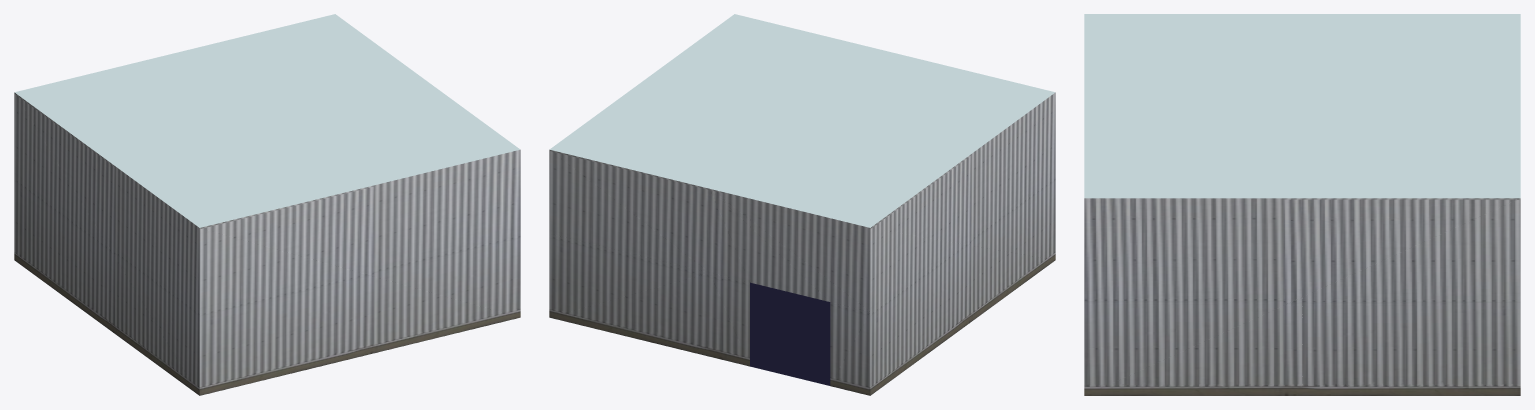
Rendered from Room1_backup.glb.
3 views of the same model, side by side, from view 1: azimuth 30°, elevation 25°; view 2: azimuth 150°, elevation 25°; view 3: azimuth 270°, elevation 25° (orthographic). The views are drawn at different scales.
Visible parts, largest first — view 1: Room; view 2: Room, Door; view 3: Room.
Part boxes in pixels (x1,y1,x2,y2): Room: [14, 14, 520, 395]; Room: [549, 14, 1055, 395]; Door: [750, 282, 830, 385]; Room: [1084, 14, 1520, 395].
Bounding box in the file's own units: 24.01 × 12 × 24.01.
Materials: 4 (2 with a texture image).
